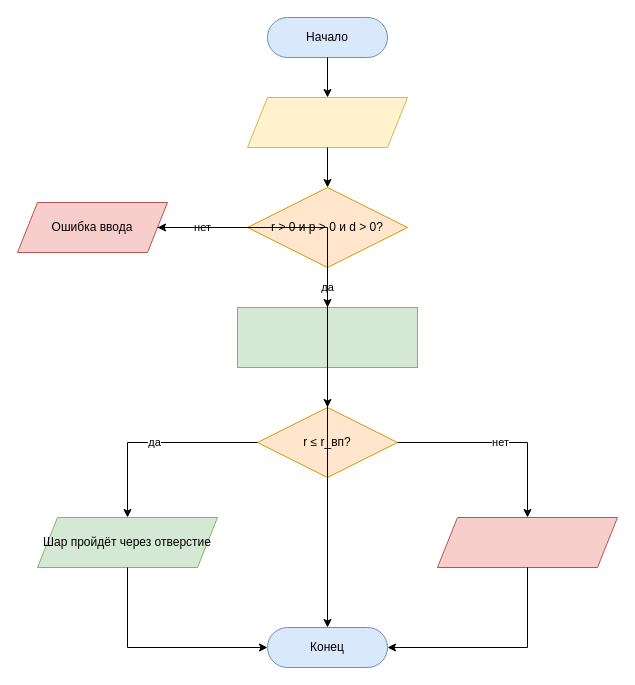
The diagram is 635 pixels wide and 685 high, and some of its shapes have lost their labels. The shapes that lost their labels are listed below. From the top down, each one's box as (x1, y1, x2, y2) in pixels, then its label:
(246, 96, 408, 148): Ввод r, p, d
(236, 306, 418, 368): r_вп = p * d / (2 * √(p² + d²))
(436, 516, 618, 568): Шар не пройдёт через отверстие
